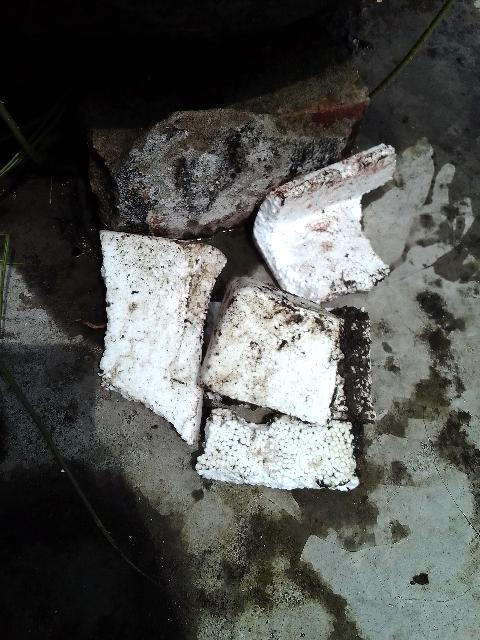cocksheet: (97, 173, 364, 511)
